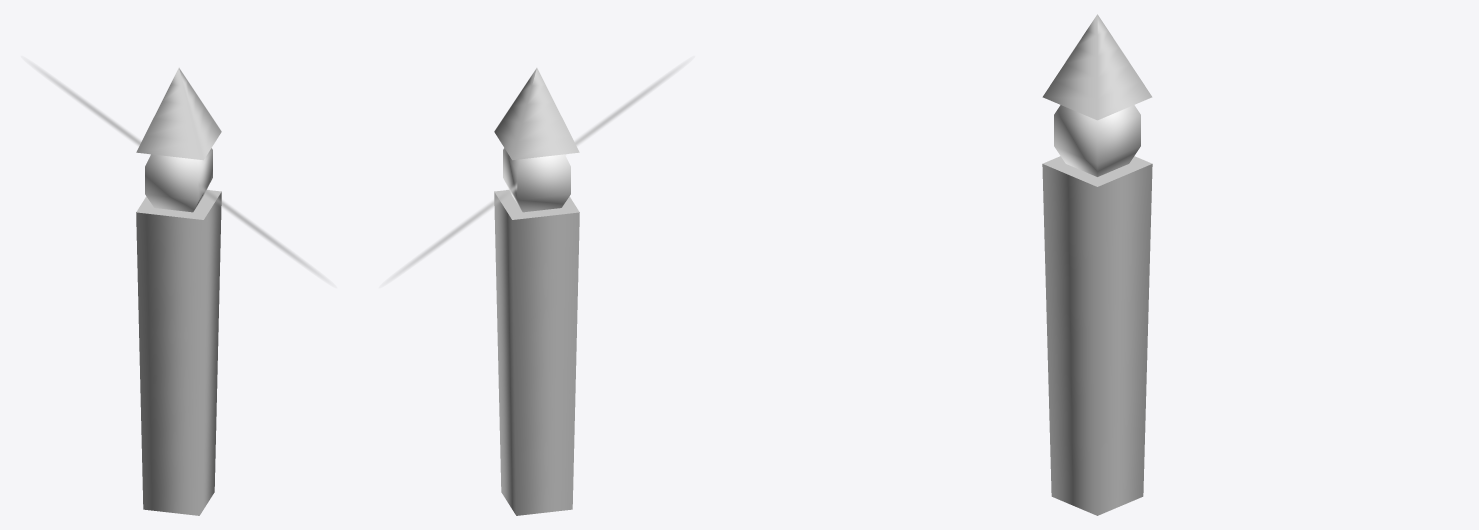
Rendered from ldeco_lamppost.glb.
3 renders of one model, left to right at view 1: azimuth 30°, elevation 25°; view 2: azimuth 150°, elevation 25°; view 3: azimuth 270°, elevation 25°, orthographic. The views are drawn at different scales.
Parts seen in each view (by area): view 1: Post, Cap, Bulb, LensFlare; view 2: Post, Cap, Bulb, LensFlare; view 3: Post, Cap, Bulb.
Boxes of the visible parts, x1,y1,x2,y2 form: Post: [136, 190, 221, 515]; Cap: [136, 68, 221, 160]; Bulb: [145, 148, 212, 212]; LensFlare: [45, 74, 312, 269]; Post: [494, 190, 579, 515]; Cap: [494, 68, 579, 160]; Bulb: [503, 148, 570, 212]; LensFlare: [403, 74, 670, 269]; Post: [1042, 156, 1152, 515]; Cap: [1042, 14, 1152, 120]; Bulb: [1054, 105, 1140, 176].
Bounding box in the file's own units: 0.3 × 1.45 × 2.
Materials: 3 (1 with a texture image).
